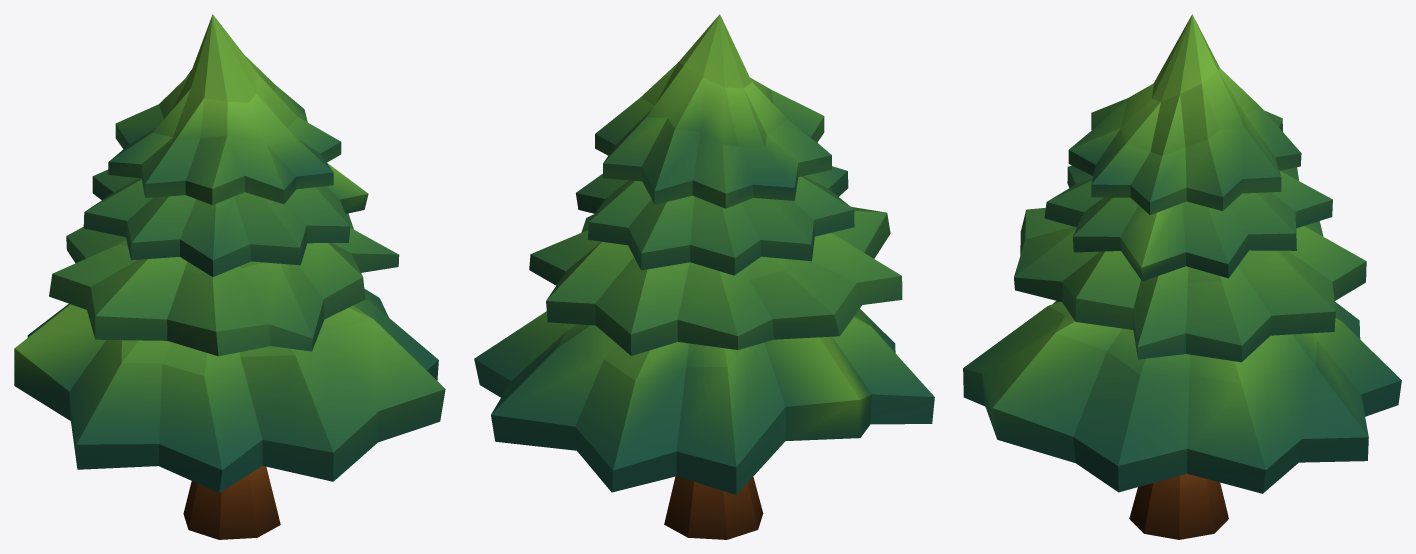
Rendered from Tree_Fern_SmallWide_SumAut.fbx.
3 views of the same model, side by side, from view 1: azimuth 30°, elevation 25°; view 2: azimuth 150°, elevation 25°; view 3: azimuth 270°, elevation 25° (orthographic). The views are drawn at different scales.
Visible parts, largest first — view 1: Tree_Fern_SmallWide_SumAut; view 2: Tree_Fern_SmallWide_SumAut; view 3: Tree_Fern_SmallWide_SumAut.
Part boxes in pixels (x1,y1,x2,y2): Tree_Fern_SmallWide_SumAut: [14, 14, 445, 539]; Tree_Fern_SmallWide_SumAut: [474, 14, 934, 539]; Tree_Fern_SmallWide_SumAut: [963, 14, 1401, 539].
Bounding box in the file's own units: 282 × 359 × 286.
